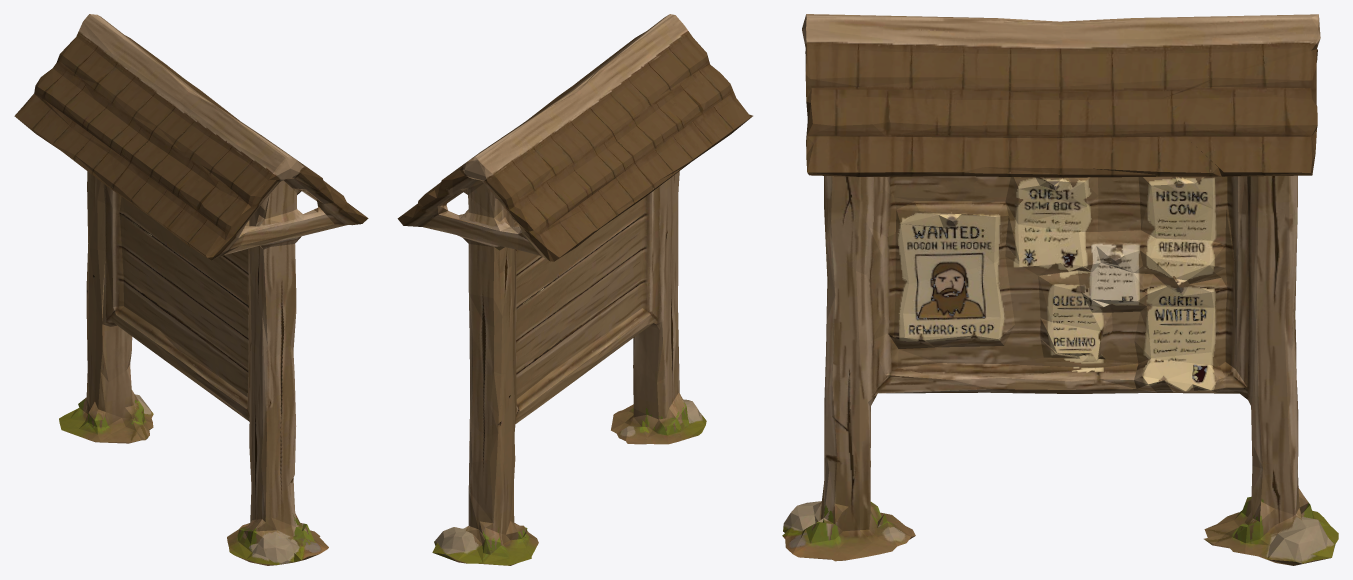
File: tut_questboard.glb
3 views of the same model, side by side, from view 1: azimuth 30°, elevation 25°; view 2: azimuth 150°, elevation 25°; view 3: azimuth 270°, elevation 25° (orthographic). The views are drawn at different scales.
Visible parts, largest first — view 1: tut_questboard; view 2: tut_questboard; view 3: tut_questboard.
Part boxes in pixels (x1=…): tut_questboard: x1=14, y1=14, x2=368, y2=565; tut_questboard: x1=397, y1=14, x2=752, y2=565; tut_questboard: x1=782, y1=14, x2=1338, y2=565.
Bounding box in the file's own units: 0.8411 × 2 × 1.93.
Materials: 1 (1 with a texture image).
